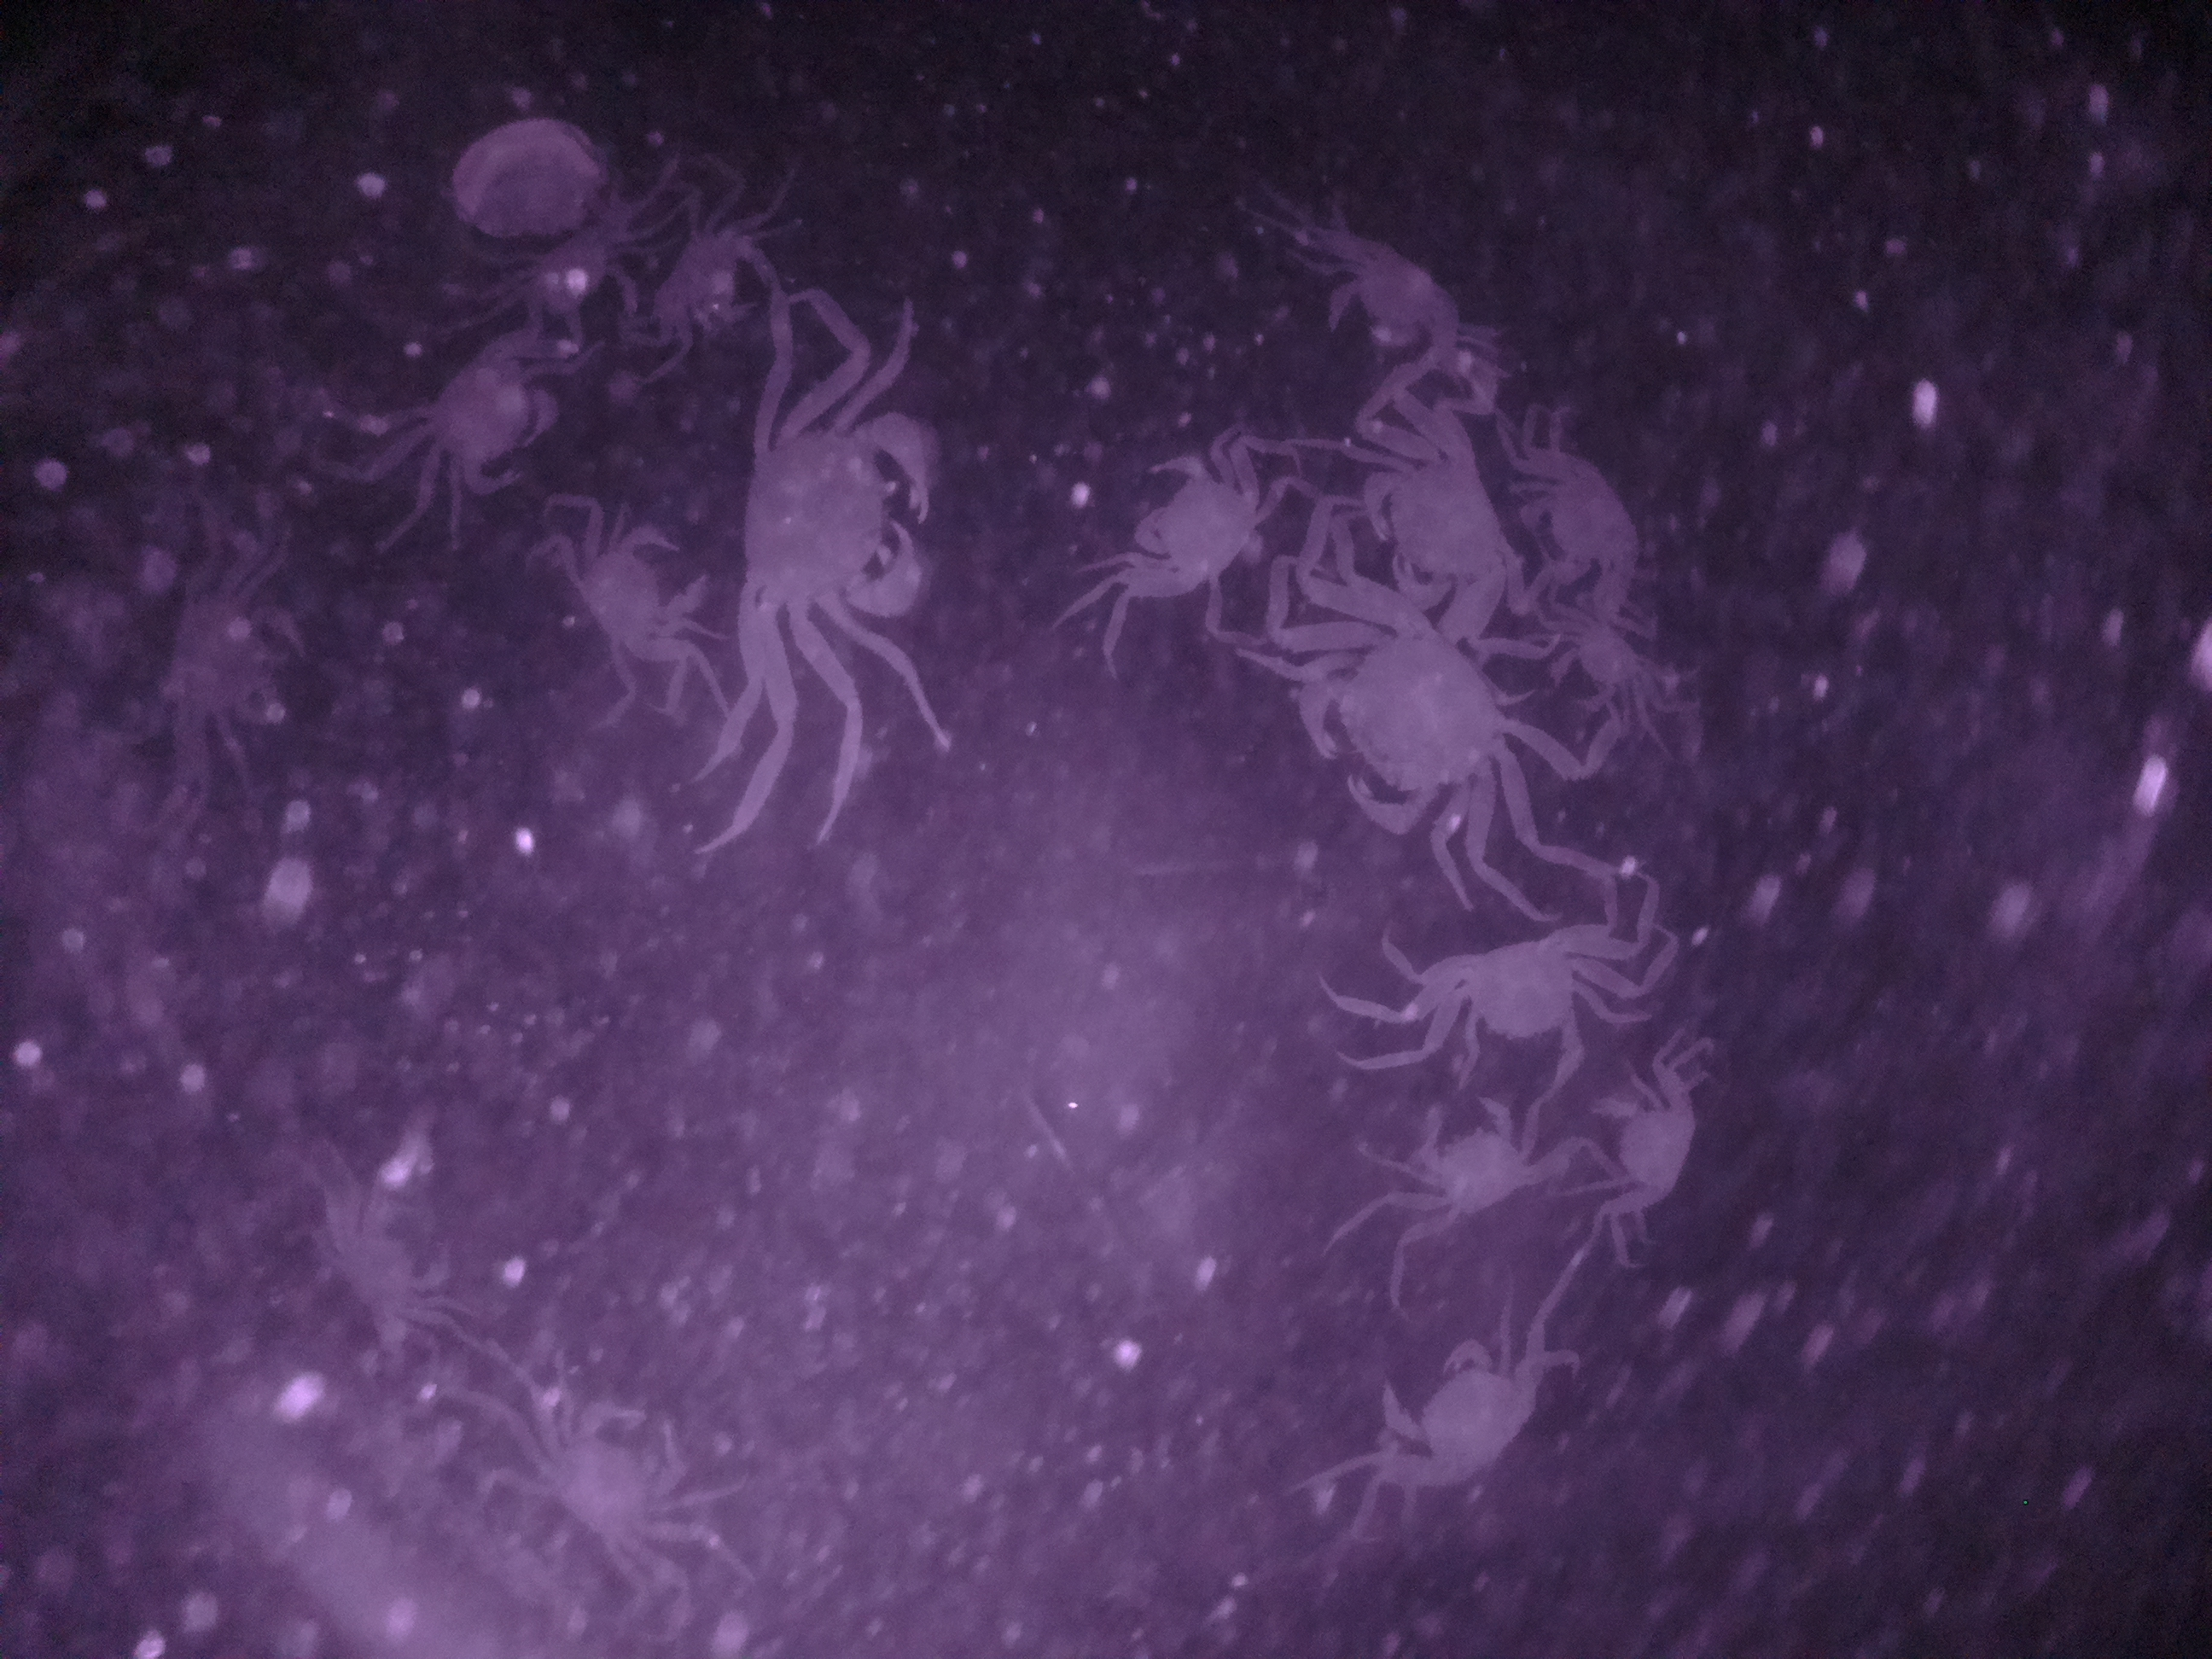Crab: (718, 369, 944, 652), (1287, 587, 1517, 861), (1101, 413, 1296, 631), (1383, 915, 1613, 1093), (524, 1370, 711, 1582), (1503, 413, 1662, 629), (1575, 1049, 1721, 1256), (561, 507, 712, 702), (1371, 1333, 1545, 1502), (409, 329, 573, 507), (1395, 1082, 1550, 1260), (1534, 610, 1679, 739)
